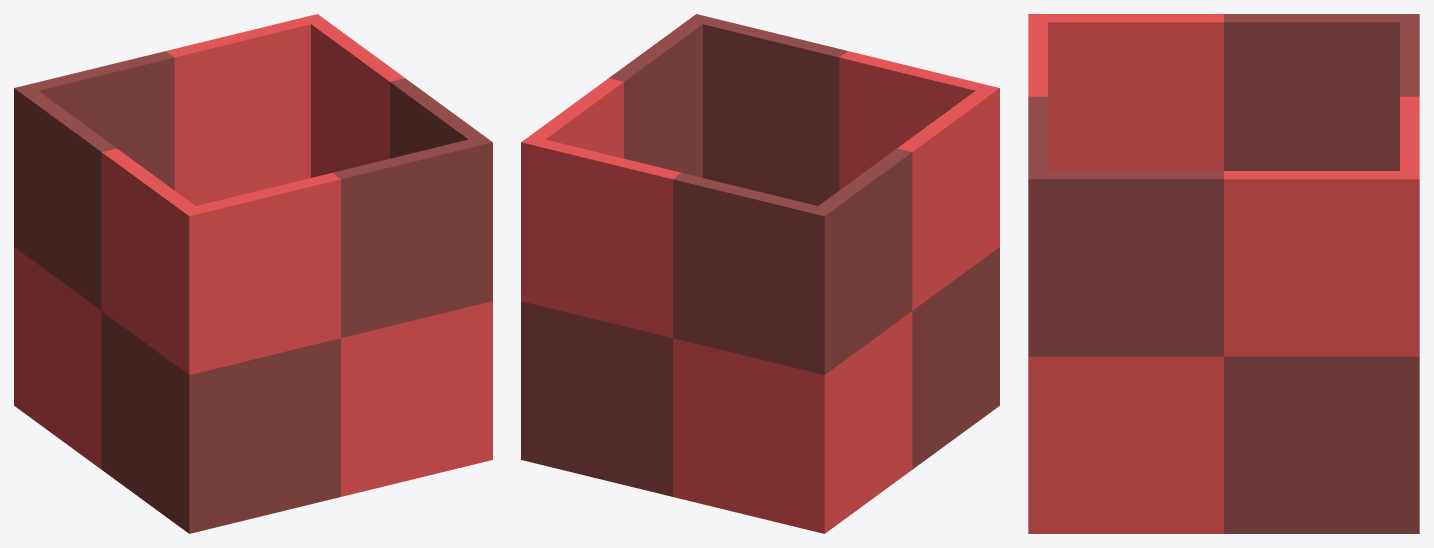
File: bin.Cube4.fbx
The picture shows the model from 3 angles, left to right: view 1: azimuth 30°, elevation 25°; view 2: azimuth 150°, elevation 25°; view 3: azimuth 270°, elevation 25°; orthographic projection. The views are drawn at different scales.
Parts seen in each view (by area): view 1: Cube; view 2: Cube; view 3: Cube.
Boxes of the visible parts, box(x1,y1,x2,y2) form: Cube: box(14, 14, 492, 533); Cube: box(521, 14, 999, 533); Cube: box(1028, 14, 1419, 533).
Size of the model in its own units: 200 by 200 by 200.
